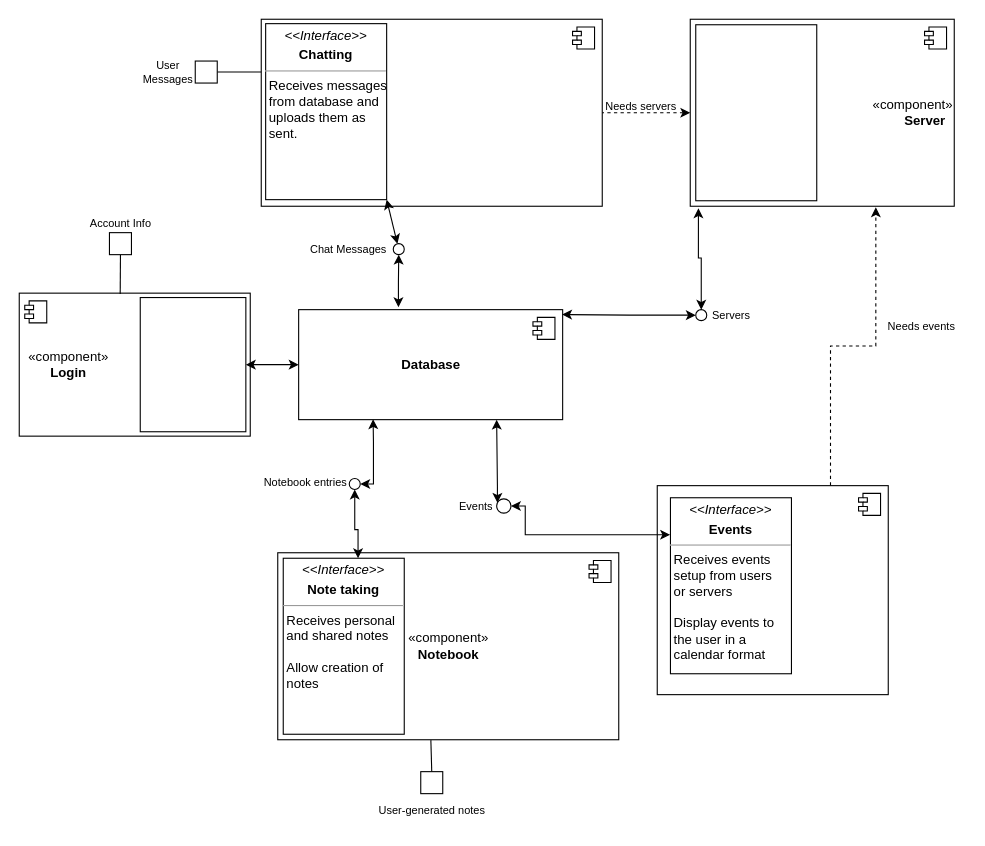
This 985x846 diagram has some shape labels left out. The shapes that lost their labels are listed below. From the top down, each one's box as (x1, y1, x2, y2) in pixels, then its label:
(260, 18, 602, 206): «component» Chat
(695, 24, 817, 201): <<Interface>> Servers Creation/Deletion of servers Inviting users Setup events
(139, 296, 246, 432): <<Interface>> Registration Create accounts Login into existing
(656, 485, 888, 695): «component» Calendar
